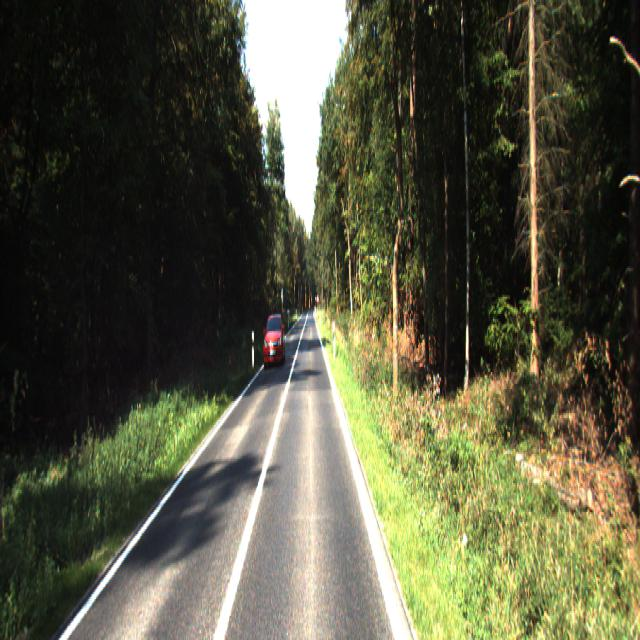Car: (263, 313, 286, 370)
